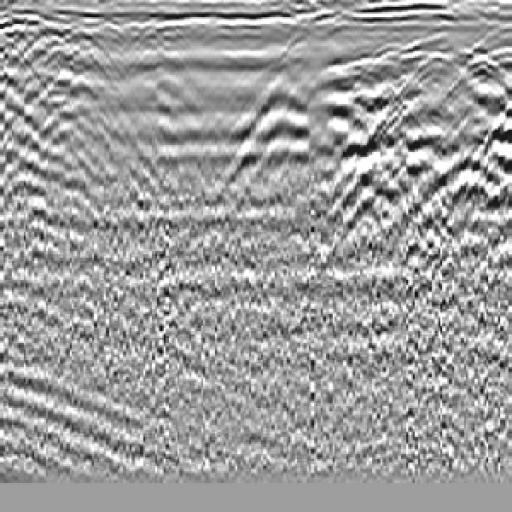non-metallic: (313, 34, 512, 278)
